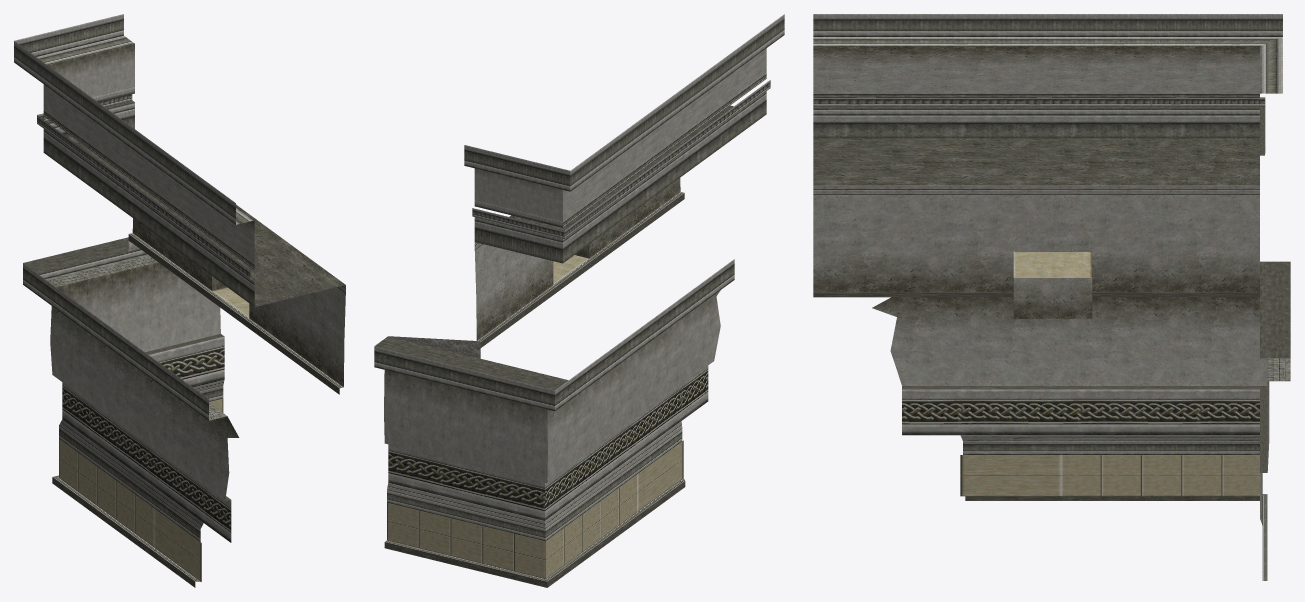
File: DWARF_PALACE_FORGE_WALL01BA.fbx
3 views of the same model, side by side, from view 1: azimuth 30°, elevation 25°; view 2: azimuth 150°, elevation 25°; view 3: azimuth 270°, elevation 25° (orthographic). The views are drawn at different scales.
Visible parts, largest first — view 1: DWARF_PALACE_FORGE_WALL01BA; view 2: DWARF_PALACE_FORGE_WALL01BA; view 3: DWARF_PALACE_FORGE_WALL01BA.
Boxes of the visible parts, box(x1,y1,x2,y2) form: DWARF_PALACE_FORGE_WALL01BA: box(14, 14, 345, 587); DWARF_PALACE_FORGE_WALL01BA: box(374, 14, 784, 587); DWARF_PALACE_FORGE_WALL01BA: box(813, 14, 1290, 580).
Bounding box in the file's own units: 96254 × 205000 × 188277.
Materials: 9 (9 with a texture image).
